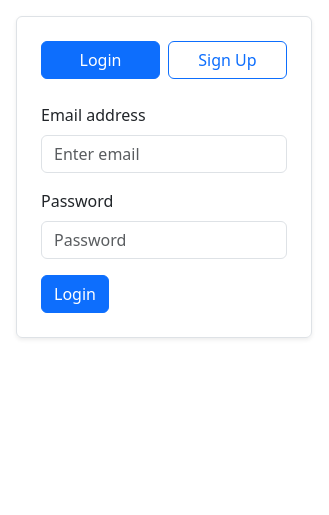
AuthForm Component › validates email and password on form submission
Click the button with aria-label "Switch to Sign Up Form" at (228, 60), box top-left (168, 41), bottom-right (287, 79)
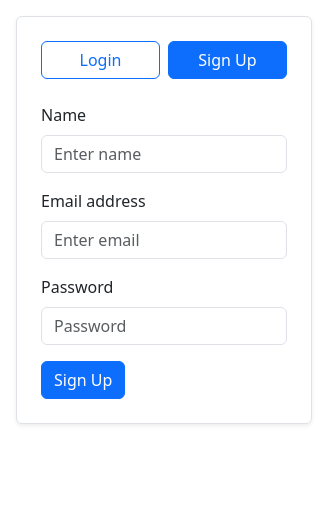
Submit the form from the button with aria-label "Submit Sign Up Form", box top-left (41, 361), bottom-right (125, 399)
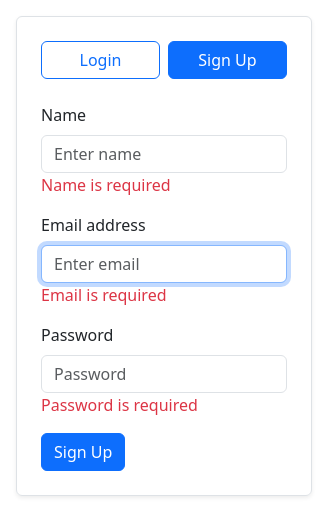
Expected: the text "Email is required" is shown, top-left (41, 284), bottom-right (166, 306)
Expected: the text "Password is required" is shown, top-left (41, 394), bottom-right (198, 416)
